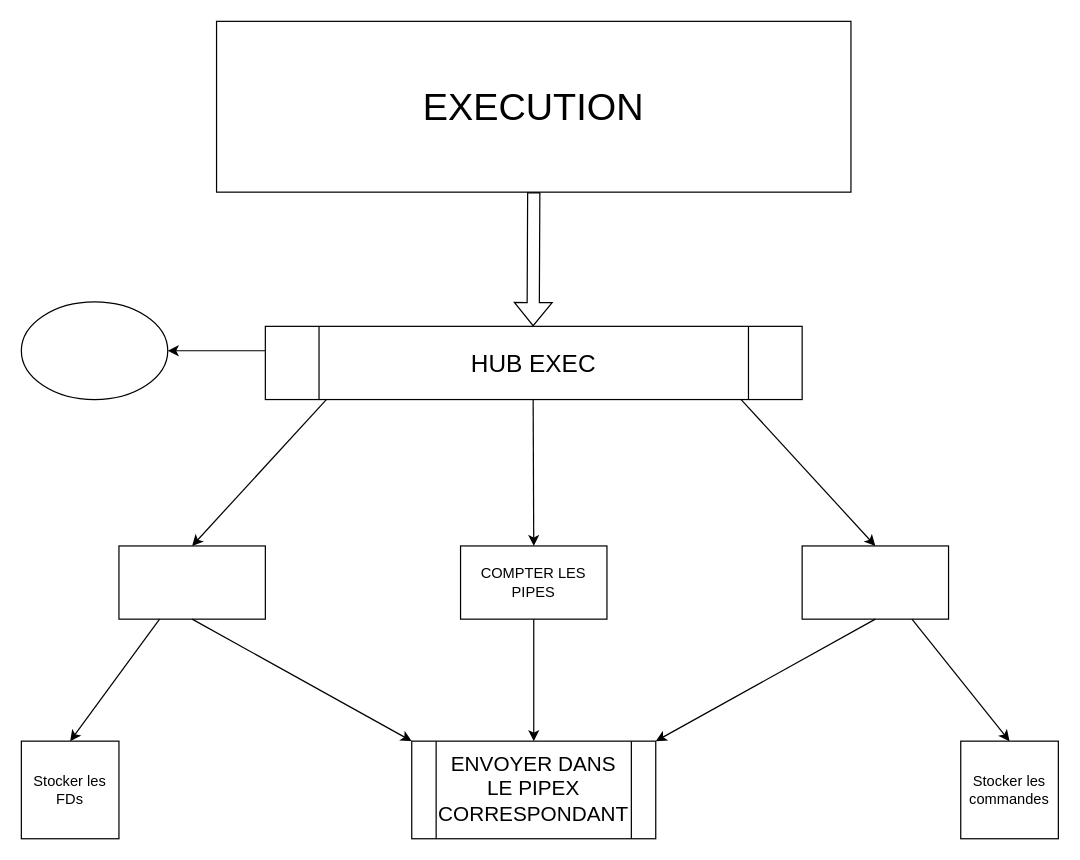
Image size: 1080x860. Some labels were removed from this diagram. The shapes that lost their labels are listed below. From the top down, each one's centre as x and y in pixels, then its label:
At [94,350]: "Verifier si builtin".
At [191,582]: "COMPTER LES REDIRECTIONS".
At [875,582]: "COMPTER LES COMMANDES".
